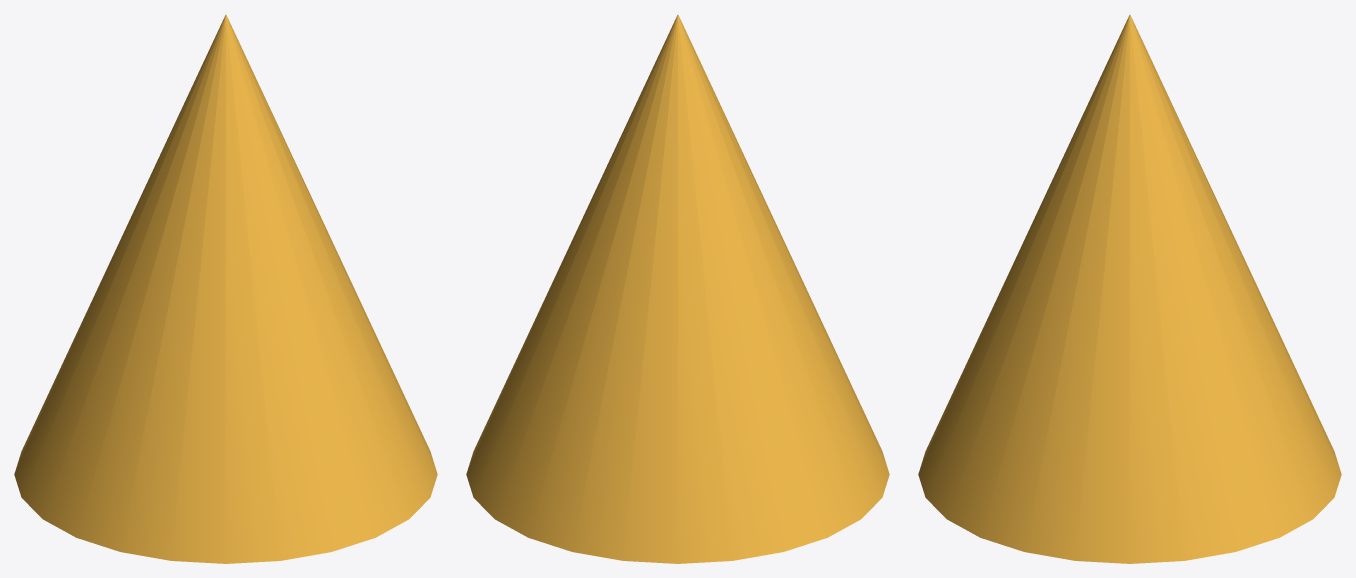
Rendered from rocket-cone.glb.
3 renders of one model, left to right at view 1: azimuth 30°, elevation 25°; view 2: azimuth 150°, elevation 25°; view 3: azimuth 270°, elevation 25°, orthographic.
Visible parts, largest first — view 1: Rocket Cone; view 2: Rocket Cone; view 3: Rocket Cone.
Boxes of the visible parts, box(x1,y1,x2,y2) form: Rocket Cone: box(14, 14, 437, 563); Rocket Cone: box(466, 14, 889, 563); Rocket Cone: box(918, 14, 1341, 563).
Bounding box in the file's own units: 1 × 1.2 × 1.
